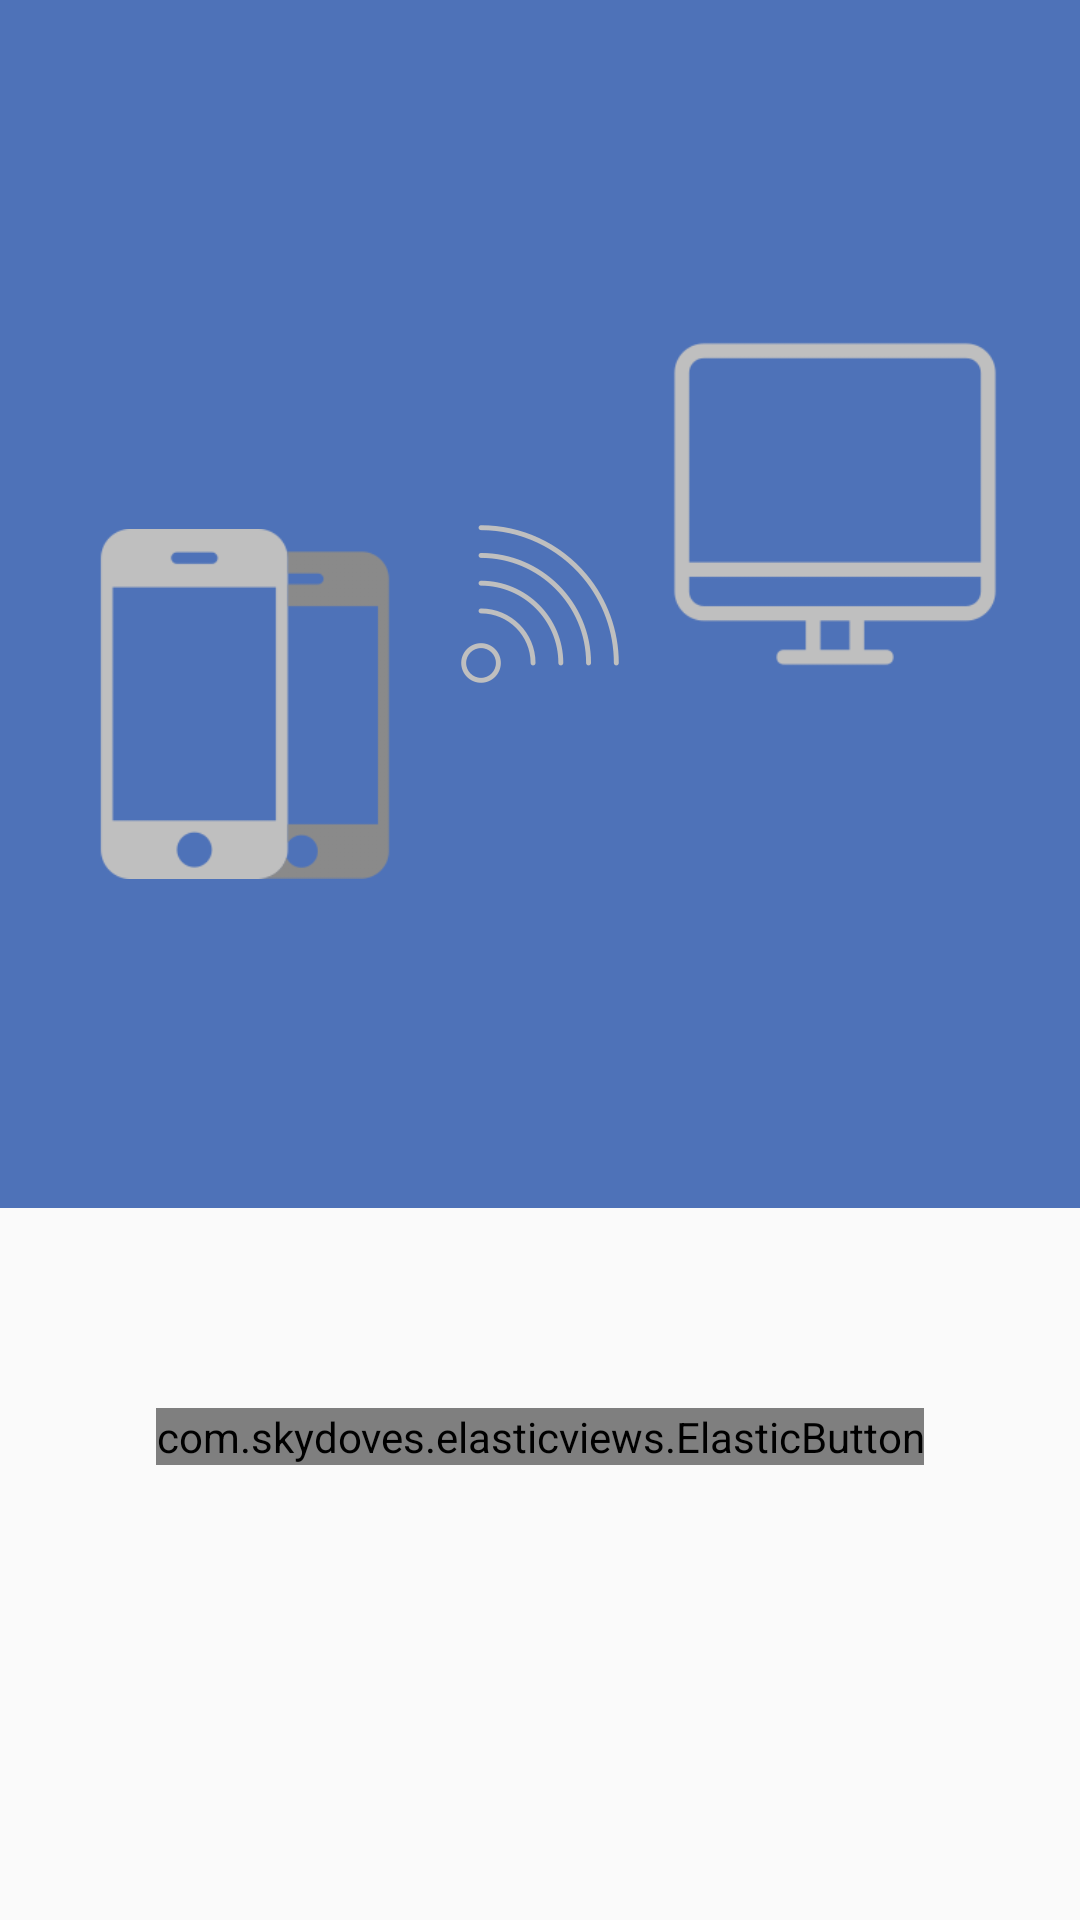

Icons on this 1080 × 1920 Android screen, each with the point to tap as point (x, y):
client: point (244, 704)
network: point (540, 604)
server: point (835, 504)
